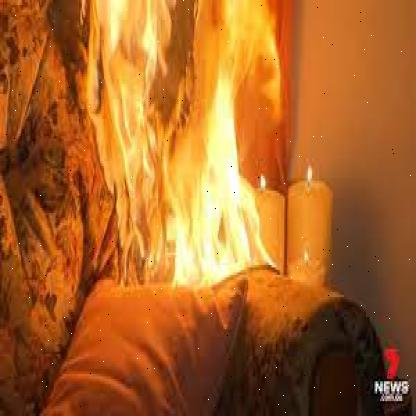fire: (79, 0, 281, 300)
